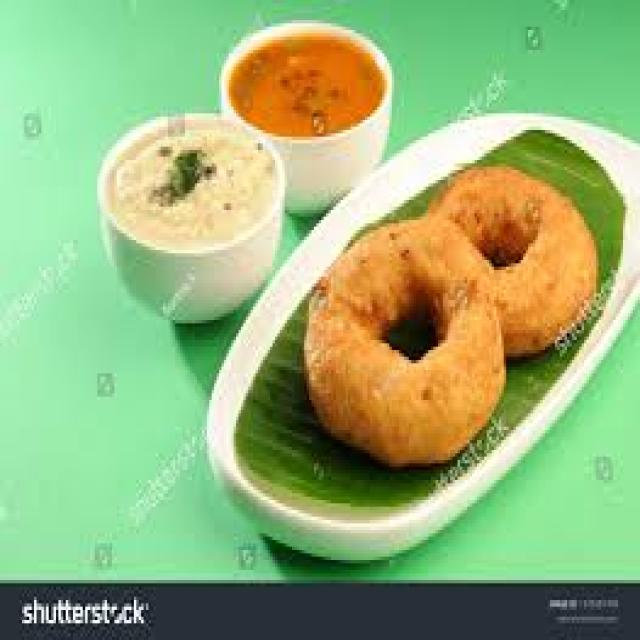MEDU VADA: (304, 213, 504, 460), (428, 167, 596, 353)
